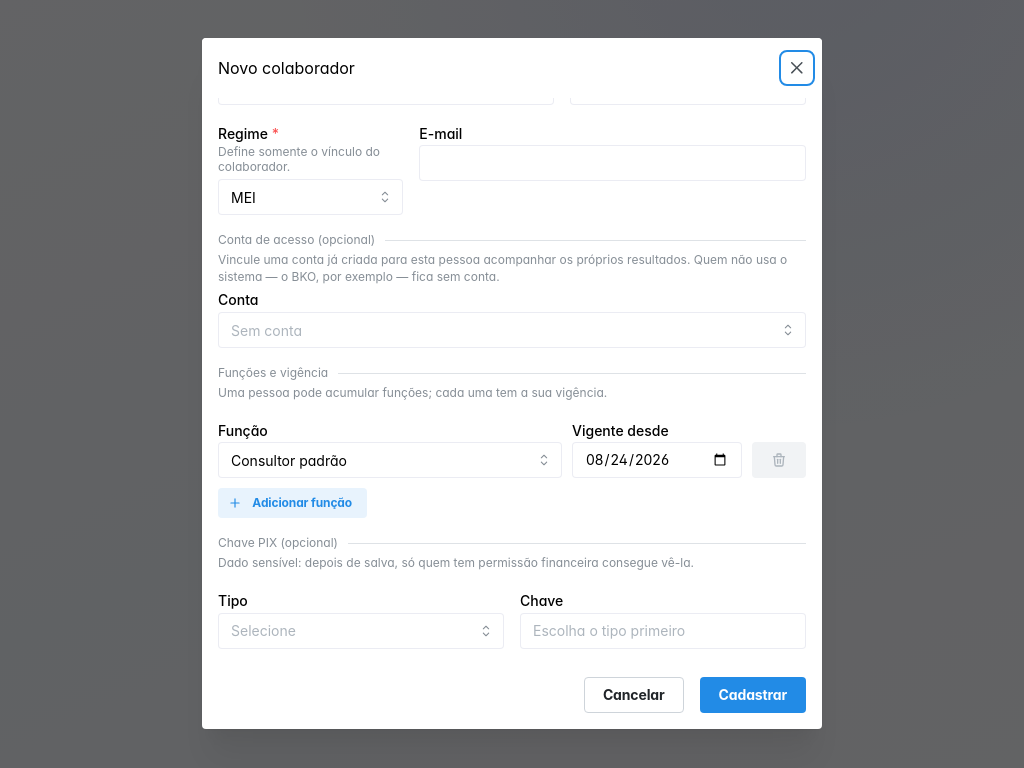
Test: CollaboratorFormModal › mascara a chave PIX conforme o tipo escolhido
(page scrolled)
Click the field labelled "Tipo". click: x=361, y=631
box: [218,613,504,649]
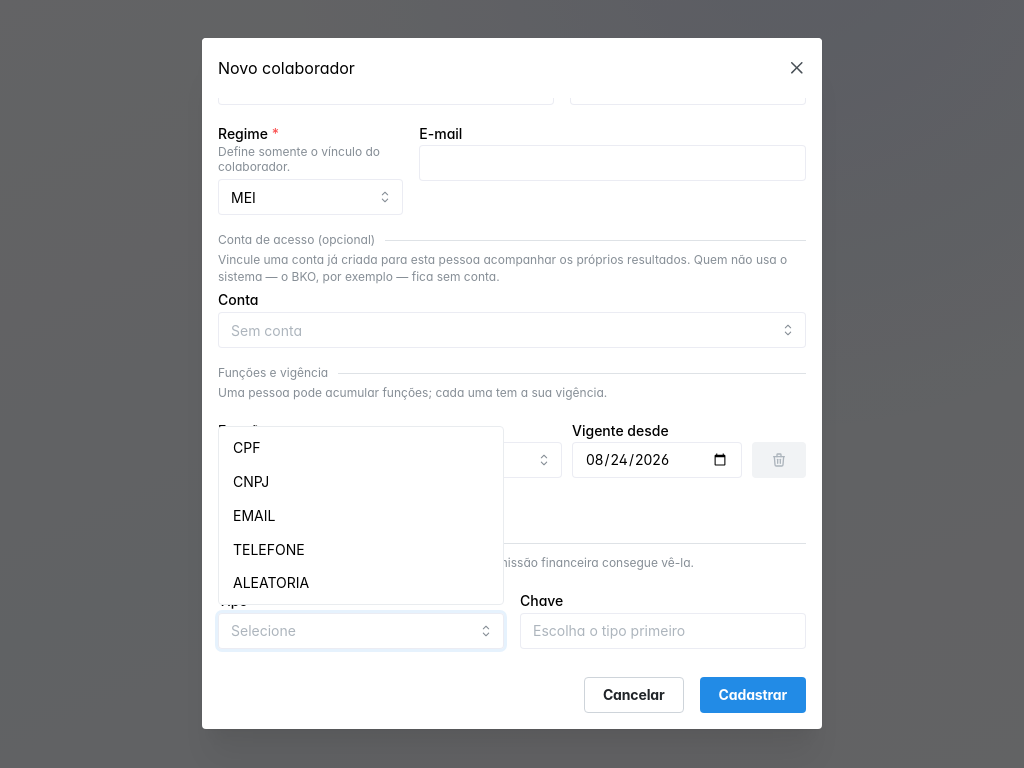
Click the option "TELEFONE". click: x=269, y=549
box: [233,540,305,558]
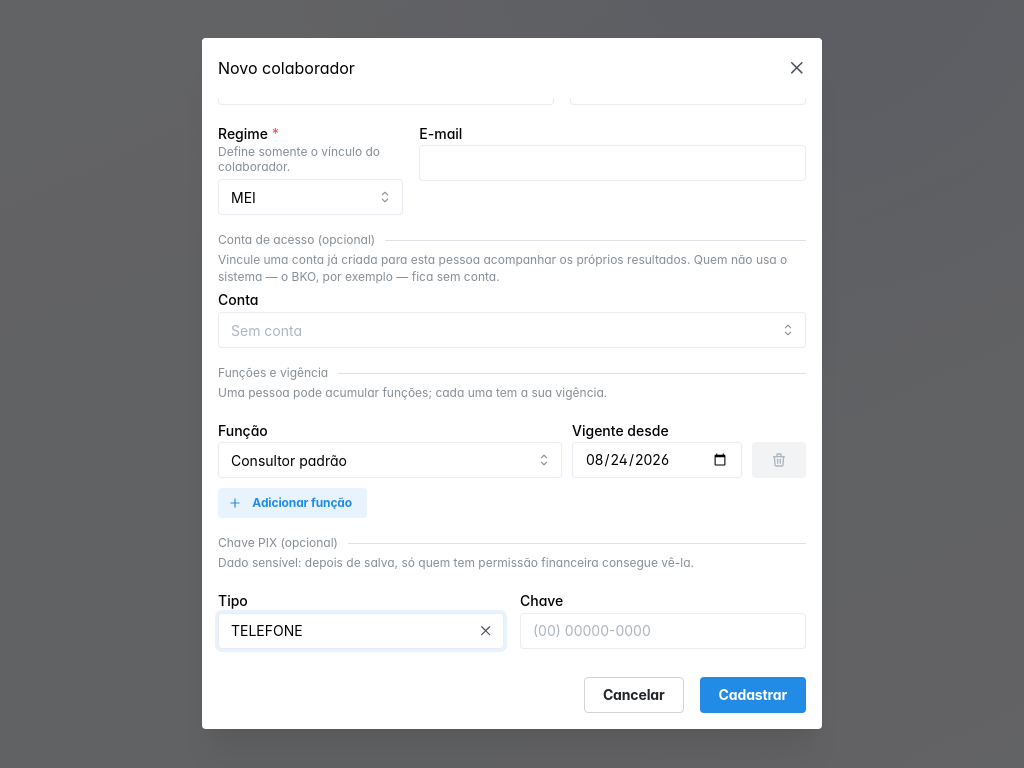
Type "79981031196" into the field labelled "Chave". click: x=663, y=631
box: [520,613,806,649]
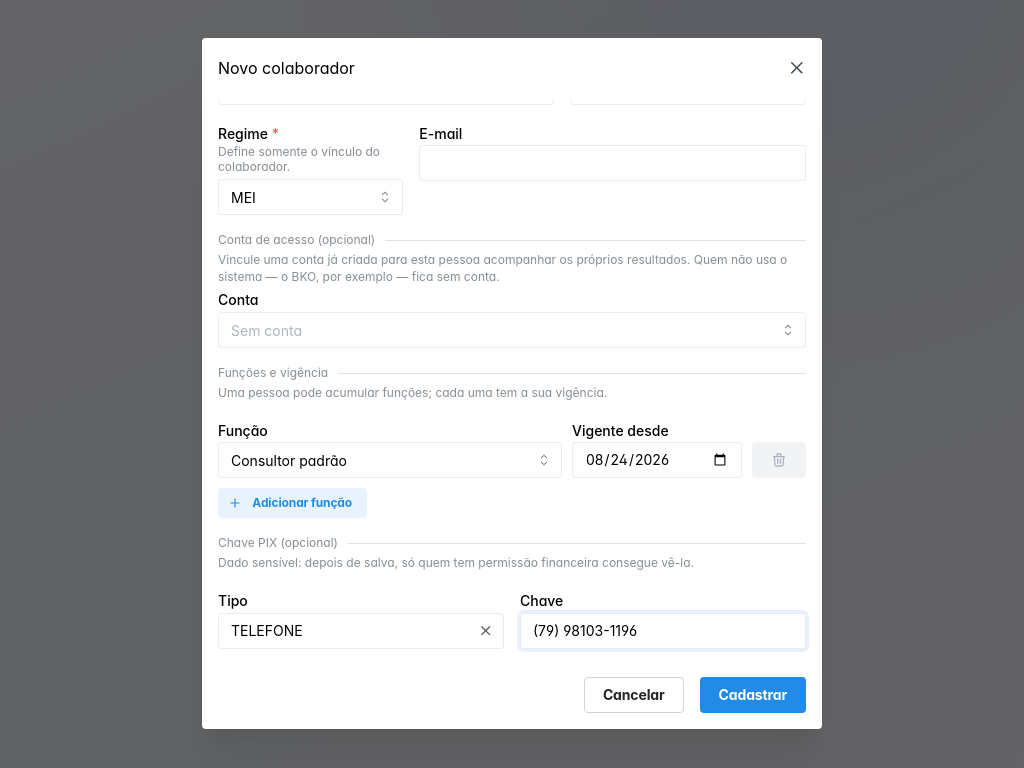
Check: the field labelled "Chave" holds "(79) 98103-1196", box [520,613,806,649]
